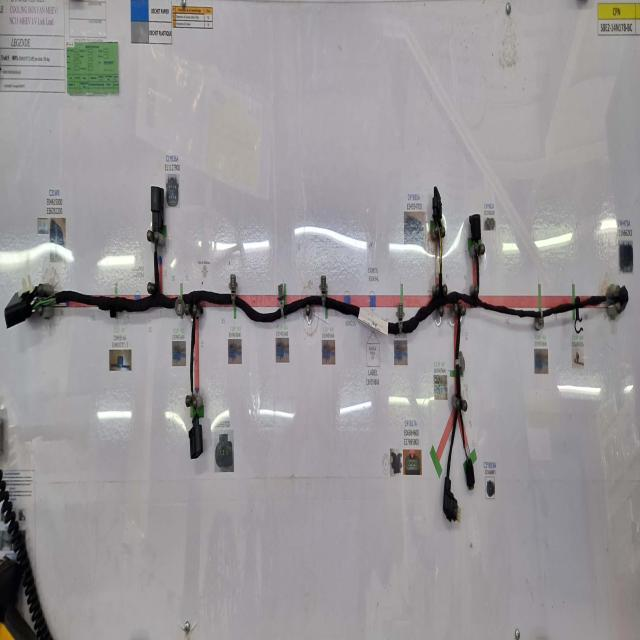Clip: (173, 283, 185, 317), (395, 300, 405, 338), (574, 297, 583, 334), (277, 283, 285, 317), (320, 275, 328, 305), (229, 275, 236, 308), (534, 311, 544, 333), (111, 305, 119, 319)
Connector: (3, 291, 32, 328), (148, 182, 166, 237), (443, 479, 461, 523), (185, 441, 199, 485), (432, 182, 443, 226), (465, 456, 476, 494), (469, 215, 482, 242), (621, 284, 629, 308)
Gape: (28, 288, 57, 312), (598, 290, 619, 308), (152, 236, 161, 276), (186, 416, 194, 448), (438, 227, 442, 279), (462, 446, 470, 459)
Info: (358, 309, 389, 332)
MHEV_N11_Cable: (183, 261, 631, 483), (31, 277, 176, 317)
